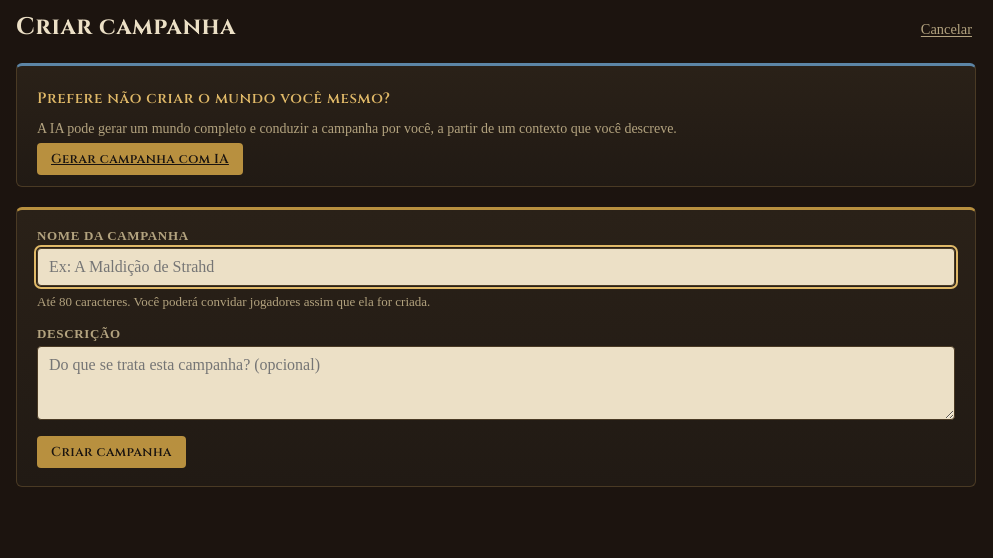
Test: criar campanha › impede o envio quando o nome está vazio
Click the button "Criar campanha" at (111, 452), box [37, 436, 186, 468]
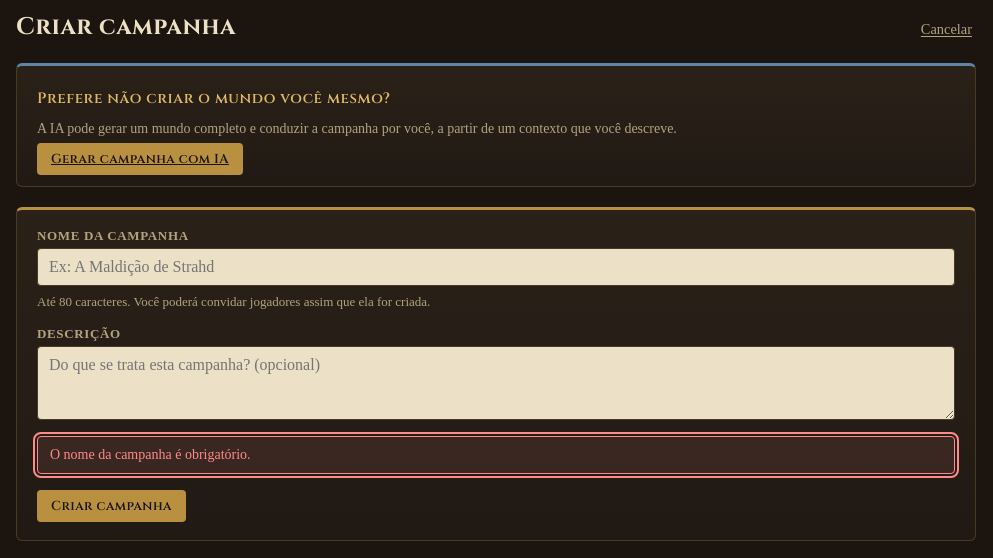
expect the message shows "obrigatório": met, box [50, 447, 251, 462]
